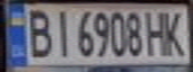0: (109, 8, 130, 57)
6: (72, 7, 93, 57)
8: (124, 8, 145, 57)
9: (90, 8, 112, 57)
B: (21, 4, 54, 58)
H: (145, 8, 169, 57)
I: (48, 6, 72, 58)
K: (160, 7, 190, 57)
